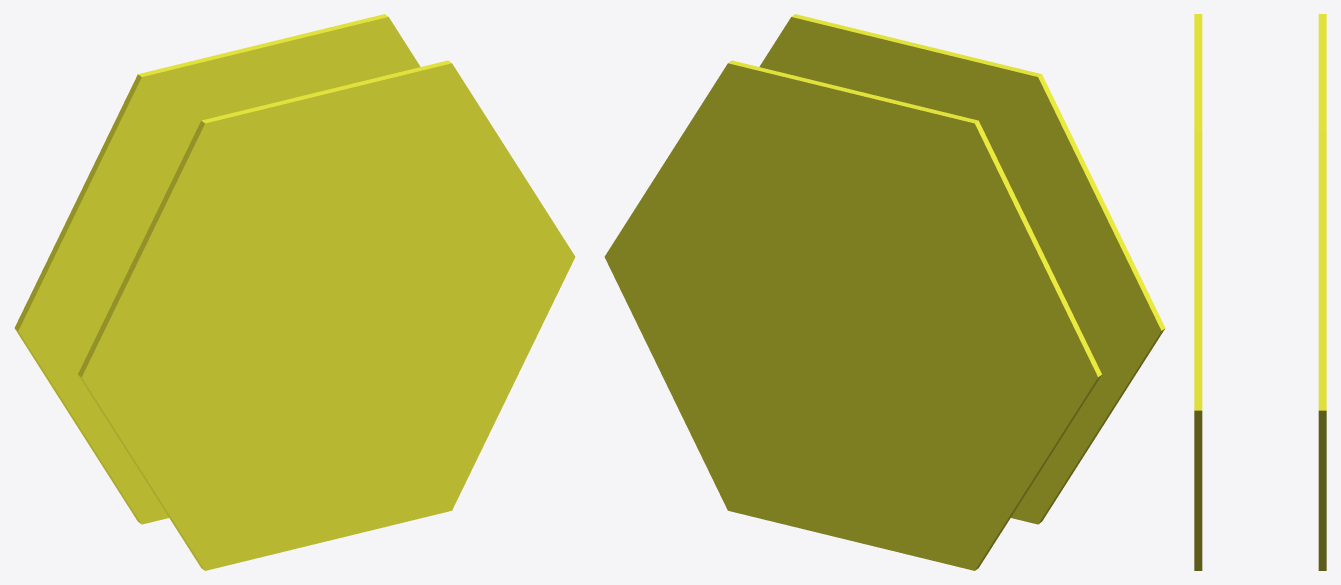
Rendered from hexapod_body_vis_1.dae.
The picture shows the model from 3 angles, left to right: view 1: azimuth 30°, elevation 25°; view 2: azimuth 150°, elevation 25°; view 3: azimuth 270°, elevation 25°; orthographic projection.
Visible parts, largest first — view 1: node; view 2: node; view 3: node.
Boxes of the visible parts, left/top/right/bottom form: node: left=14, top=14, right=575, bottom=570; node: left=604, top=14, right=1165, bottom=570; node: left=1194, top=14, right=1326, bottom=570.
Bounding box in the file's own units: 0.18 × 0.1559 × 0.0425.
